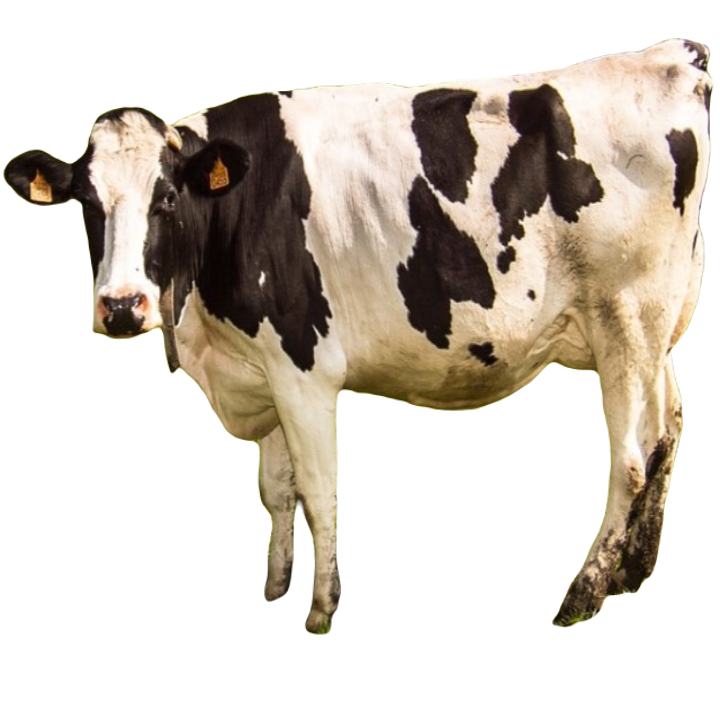Cow: (0, 39, 717, 637)
